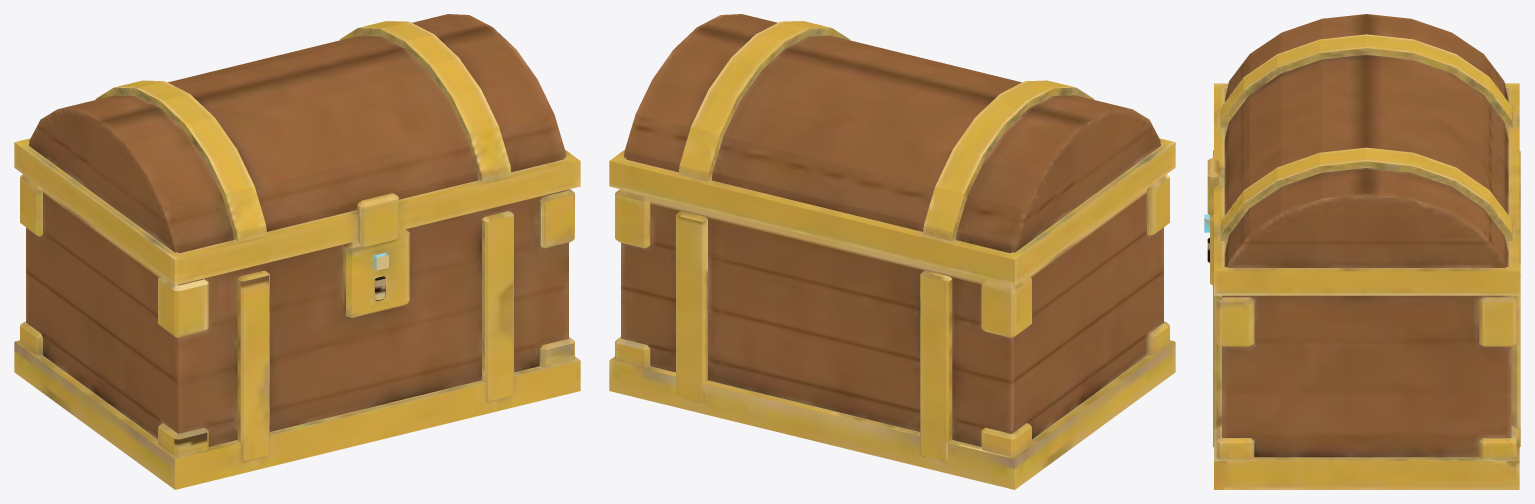
Rendered from chest.glb.
3 renders of one model, left to right at view 1: azimuth 30°, elevation 25°; view 2: azimuth 150°, elevation 25°; view 3: azimuth 270°, elevation 25°, orthographic. The views are drawn at different scales.
Visible parts, largest first — view 1: Chest_Base, Chest_Lid; view 2: Chest_Base, Chest_Lid; view 3: Chest_Lid, Chest_Base.
Boxes of the visible parts, x1,y1,x2,y2 form: Chest_Base: (14, 174, 580, 489); Chest_Lid: (14, 14, 580, 285); Chest_Base: (609, 174, 1175, 489); Chest_Lid: (609, 14, 1175, 285); Chest_Lid: (1207, 14, 1519, 295); Chest_Base: (1204, 150, 1520, 489).
Size of the model in its own units: 0.83 by 0.614 by 0.5899.
1 material, 1 textured.
